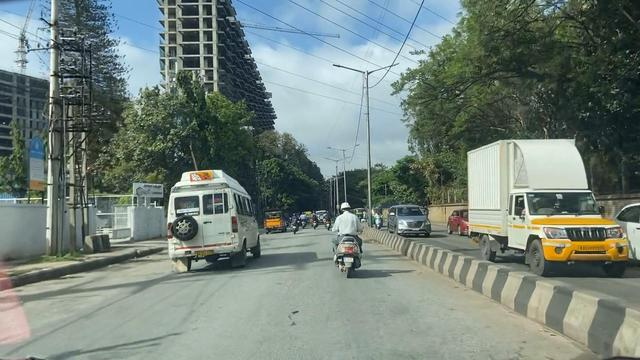HMV: (159, 175, 266, 271)
LMV: (325, 206, 366, 278)
